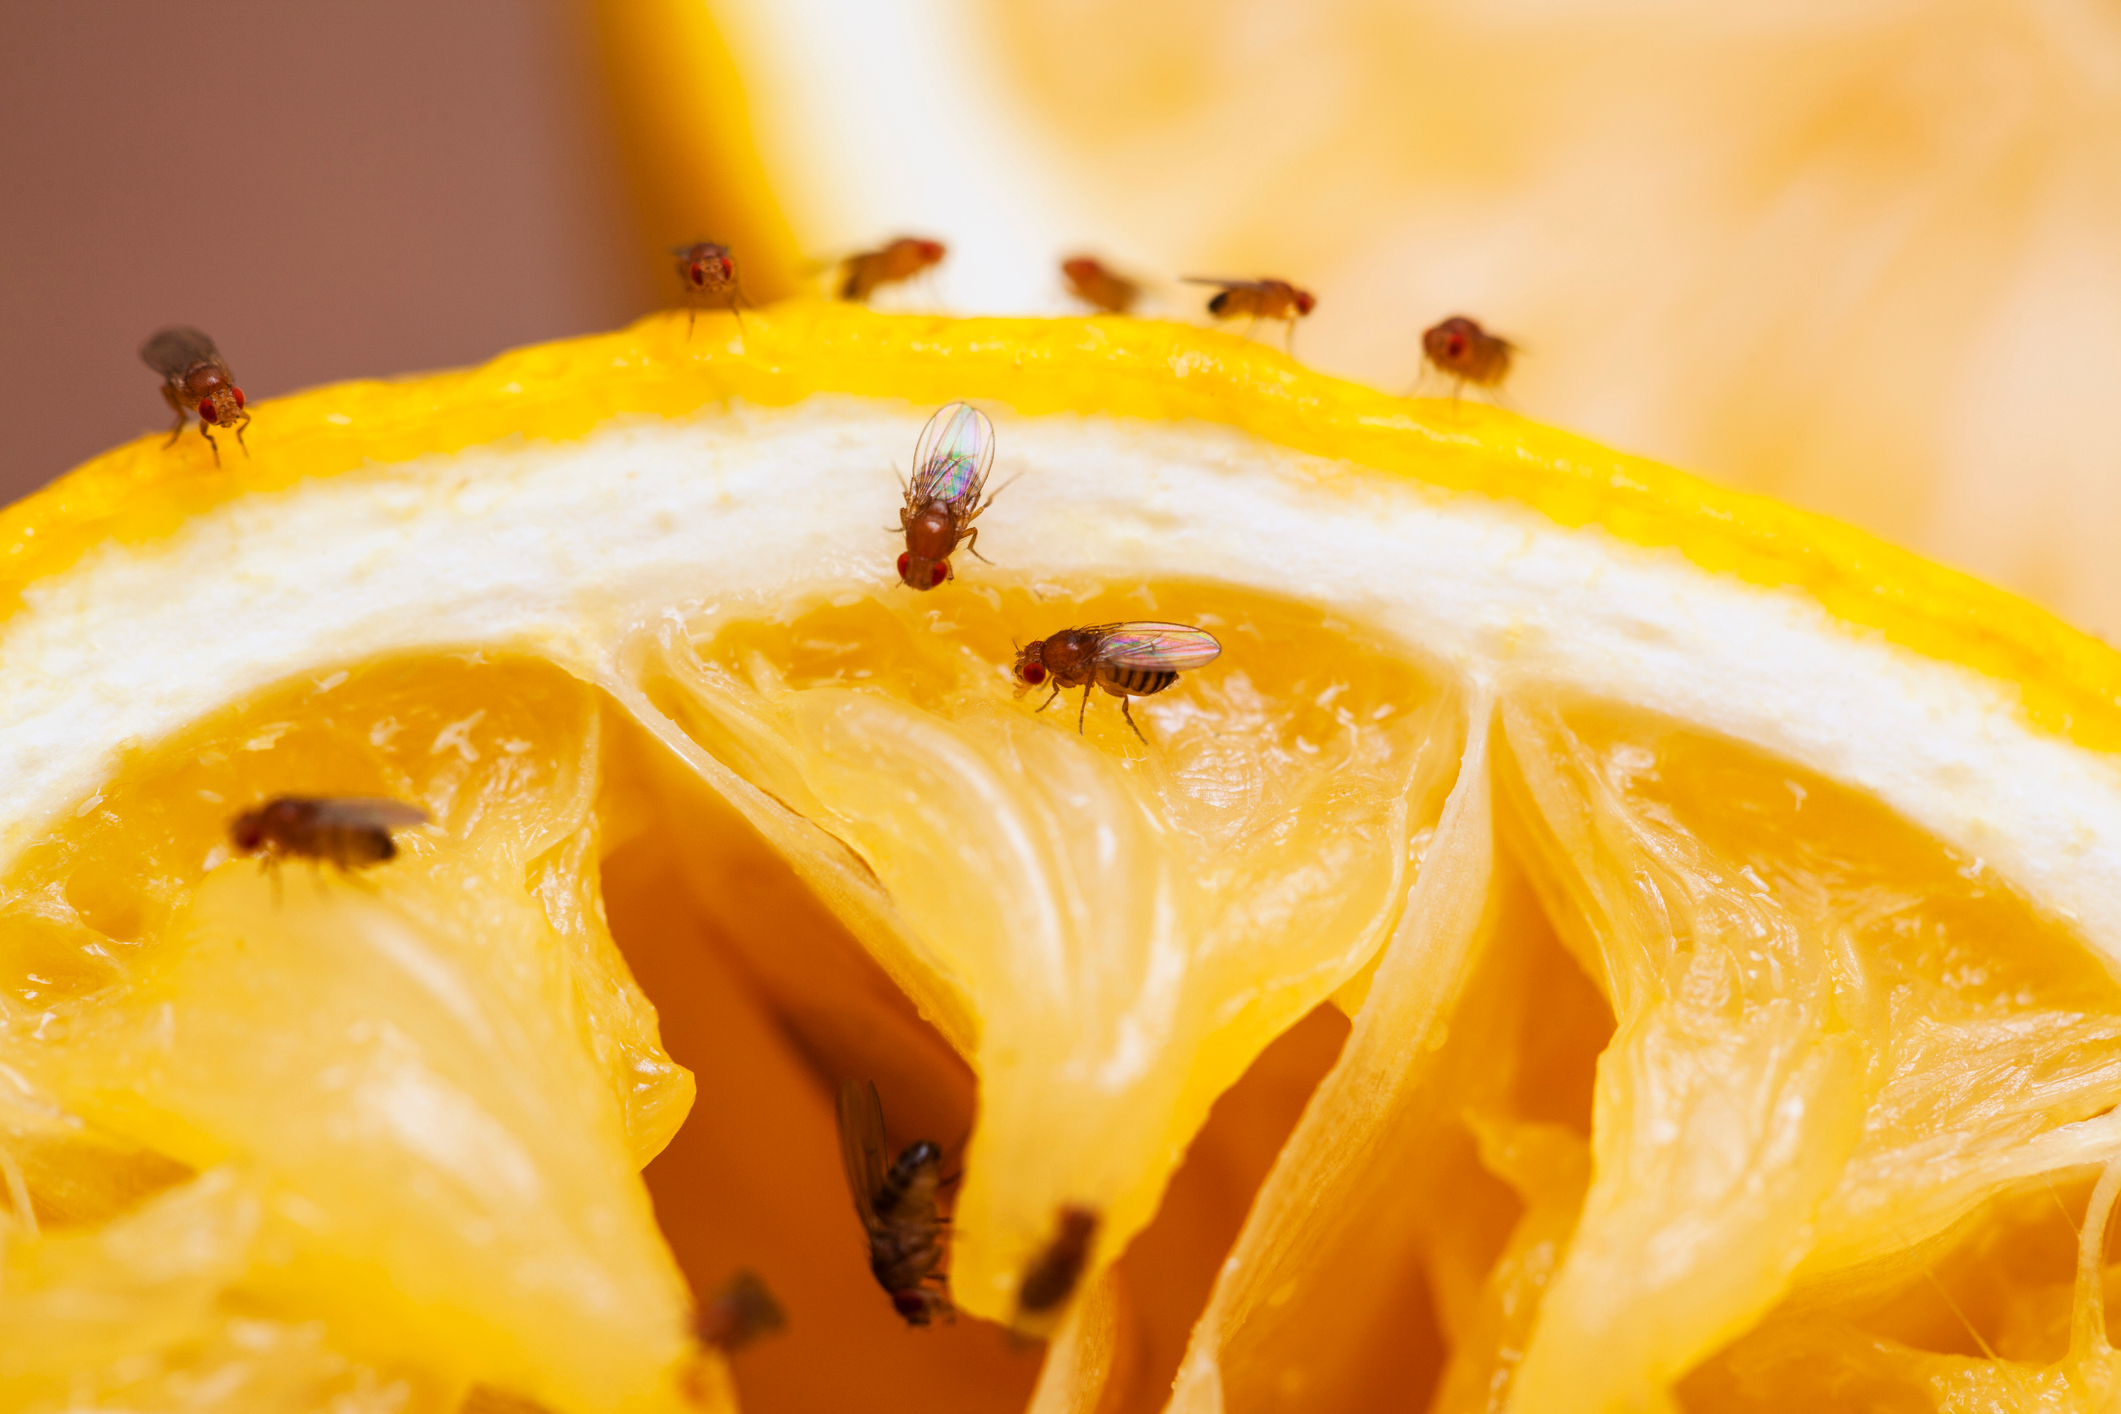Fruit fly: (824, 1049, 993, 1349), (855, 370, 984, 666), (126, 320, 262, 551), (993, 628, 1236, 747), (669, 242, 760, 342)
